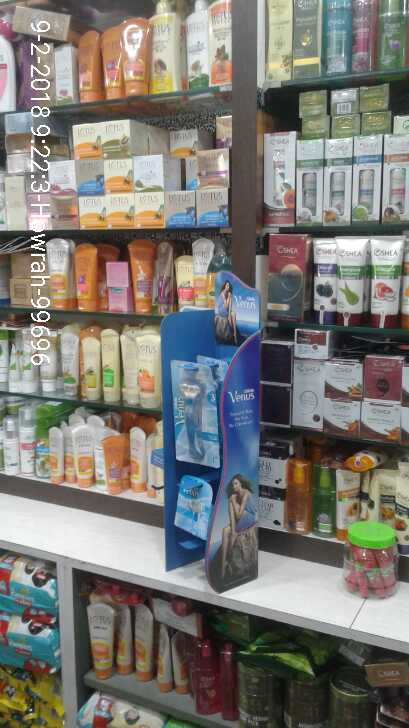venus: (159, 363, 224, 464), (169, 467, 220, 542)
